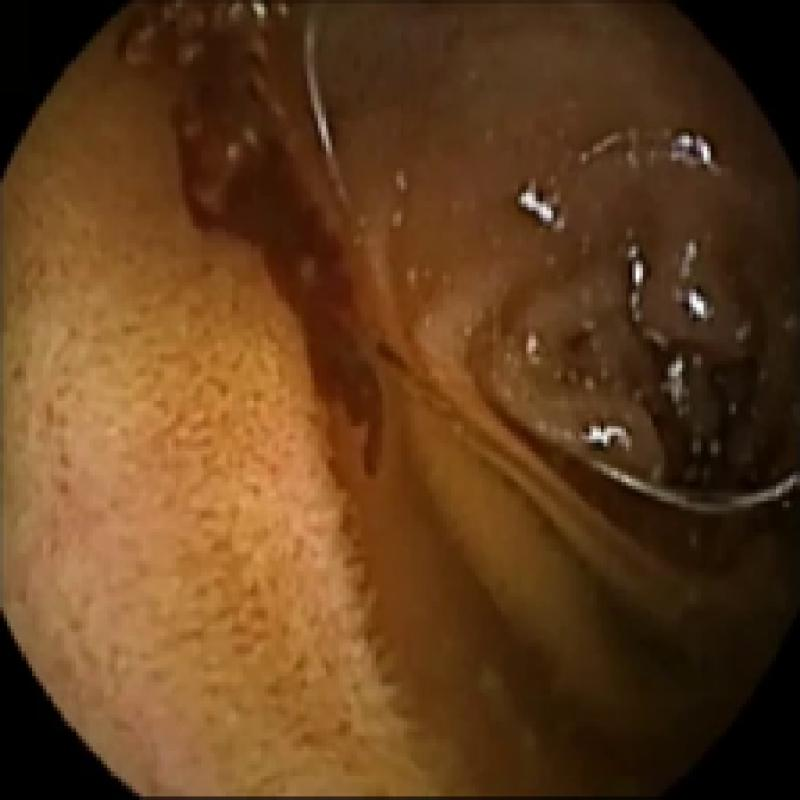bleeding: (175, 18, 382, 475)
